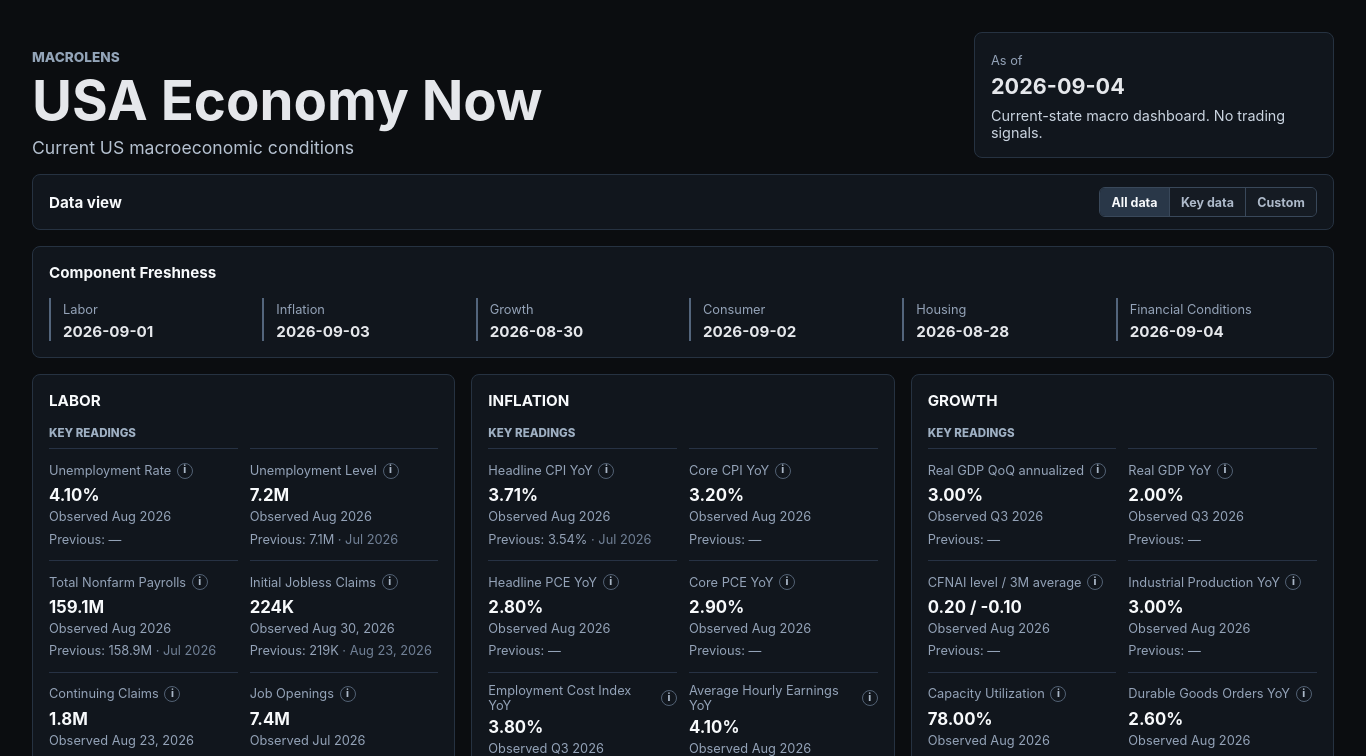
MacroLens detailed dashboard › Key data hides non-core metrics and retains headline metrics
This screenshot has width=1366, height=756.
Click the button "Key data".
click(1208, 202)  # box top-left (1170, 188), bottom-right (1246, 216)
(page scrolled)
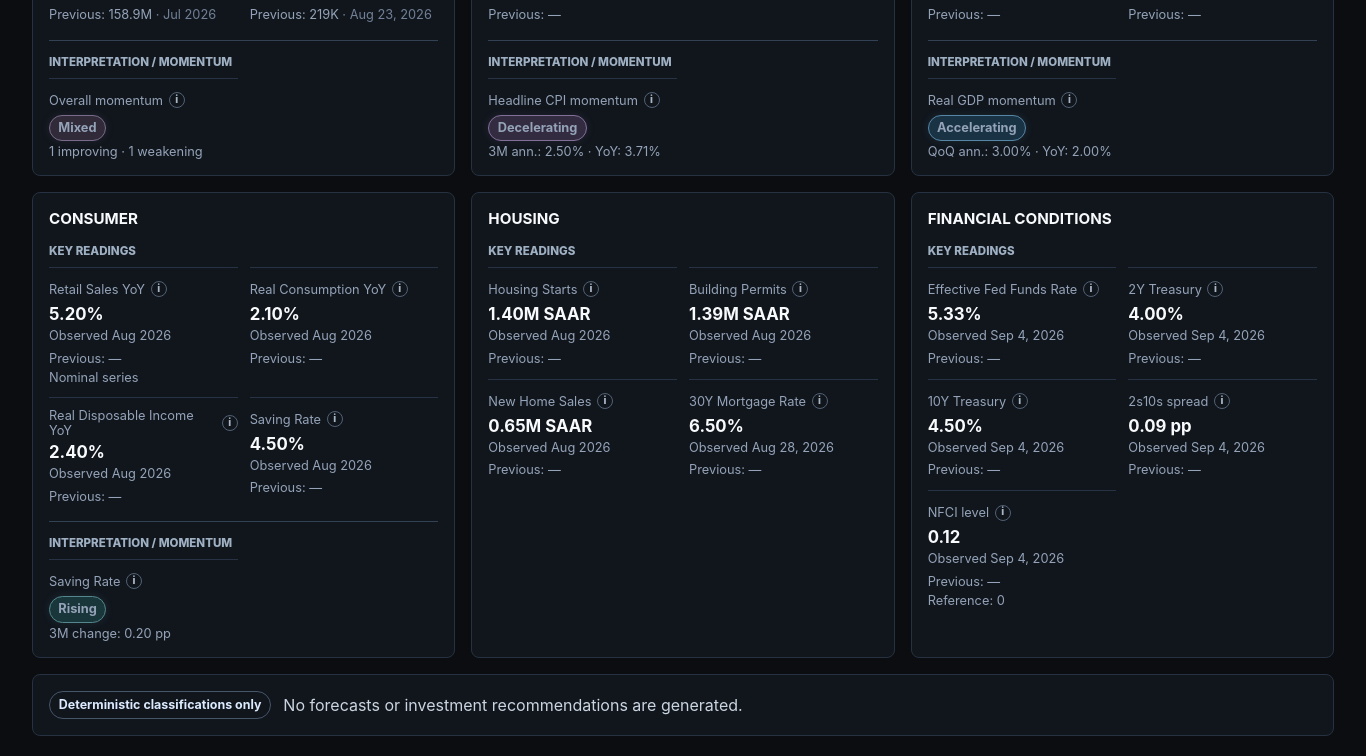
Expected: the text "Real GDP momentum" is shown, top-left (928, 93), bottom-right (1056, 108)
Expected: the text "Employment Cost Index YoY" is gone
Expected: the text "Continuing Claims" is gone
